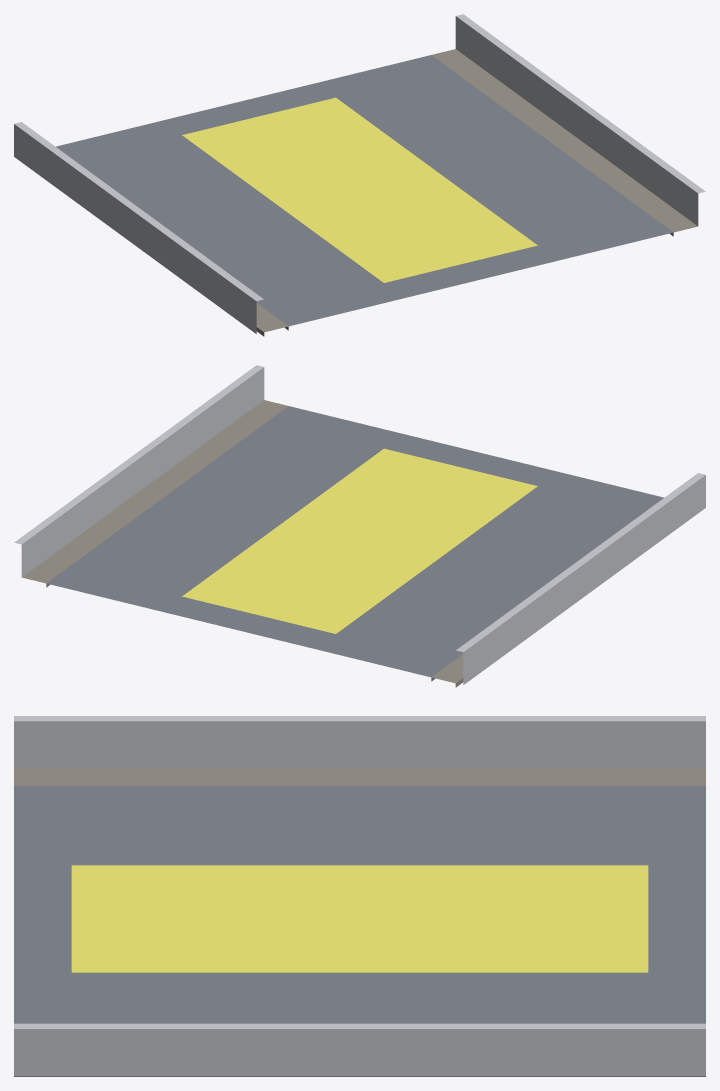
Rendered from track_boost_straight_v1.glb.
3 renders of one model, top to bottom at view 1: azimuth 30°, elevation 25°; view 2: azimuth 150°, elevation 25°; view 3: azimuth 270°, elevation 25°, orthographic. The views are drawn at different scales.
Parts seen in each view (by area): view 1: ROAD, MARKER, RAIL_R, RAIL_L, SHOULDER_R, SHOULDER_L; view 2: ROAD, MARKER, RAIL_R, RAIL_L, SHOULDER_R, SHOULDER_L; view 3: ROAD, MARKER, RAIL_L, RAIL_R, SHOULDER_L, SHOULDER_R.
Boxes of the visible parts, bbox=[...] form: ROAD: bbox=[56, 55, 673, 330]; MARKER: bbox=[182, 97, 537, 282]; RAIL_R: bbox=[455, 14, 705, 225]; RAIL_L: bbox=[14, 122, 263, 333]; SHOULDER_R: bbox=[432, 49, 697, 236]; SHOULDER_L: bbox=[256, 303, 288, 336]; ROAD: bbox=[46, 406, 663, 681]; MARKER: bbox=[182, 448, 537, 633]; RAIL_R: bbox=[14, 365, 264, 576]; RAIL_L: bbox=[456, 473, 705, 684]; SHOULDER_R: bbox=[22, 400, 287, 587]; SHOULDER_L: bbox=[431, 654, 463, 687]; ROAD: bbox=[14, 785, 705, 1023]; MARKER: bbox=[71, 865, 648, 972]; RAIL_L: bbox=[14, 716, 705, 768]; RAIL_R: bbox=[14, 1023, 705, 1075]; SHOULDER_L: bbox=[14, 768, 705, 785]; SHOULDER_R: bbox=[14, 1076, 705, 1076].
Bounding box in the file's own units: 12.84 × 1.02 × 12.
